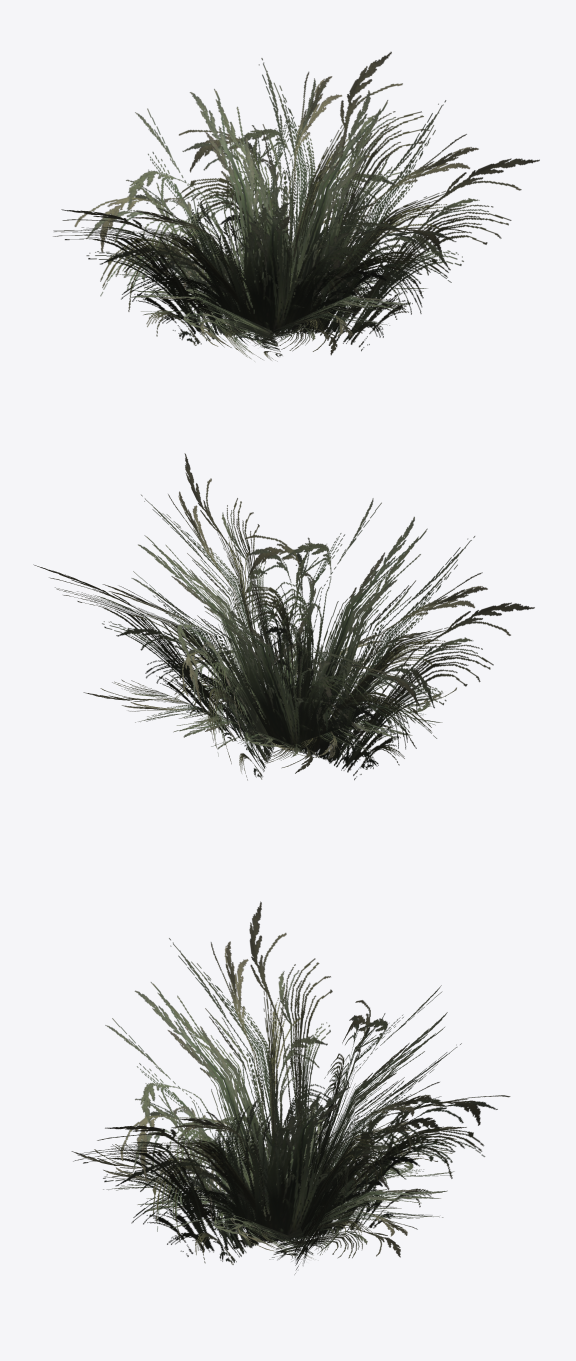
File: Grass_B.glb
3 views of the same model, one above another, from view 1: azimuth 30°, elevation 25°; view 2: azimuth 150°, elevation 25°; view 3: azimuth 270°, elevation 25° (orthographic). The views are drawn at different scales.
Parts seen in each view (by area): view 1: B_LOD0; view 2: B_LOD0; view 3: B_LOD0.
Part boxes in pixels (left/top/right/bottom): B_LOD0: left=53, top=51, right=539, bottom=361; B_LOD0: left=33, top=453, right=534, bottom=780; B_LOD0: left=71, top=901, right=510, bottom=1274.
Size of what is drawn, in the model's own units: 1.32 by 0.602 by 1.24.
1 material, 1 textured.
